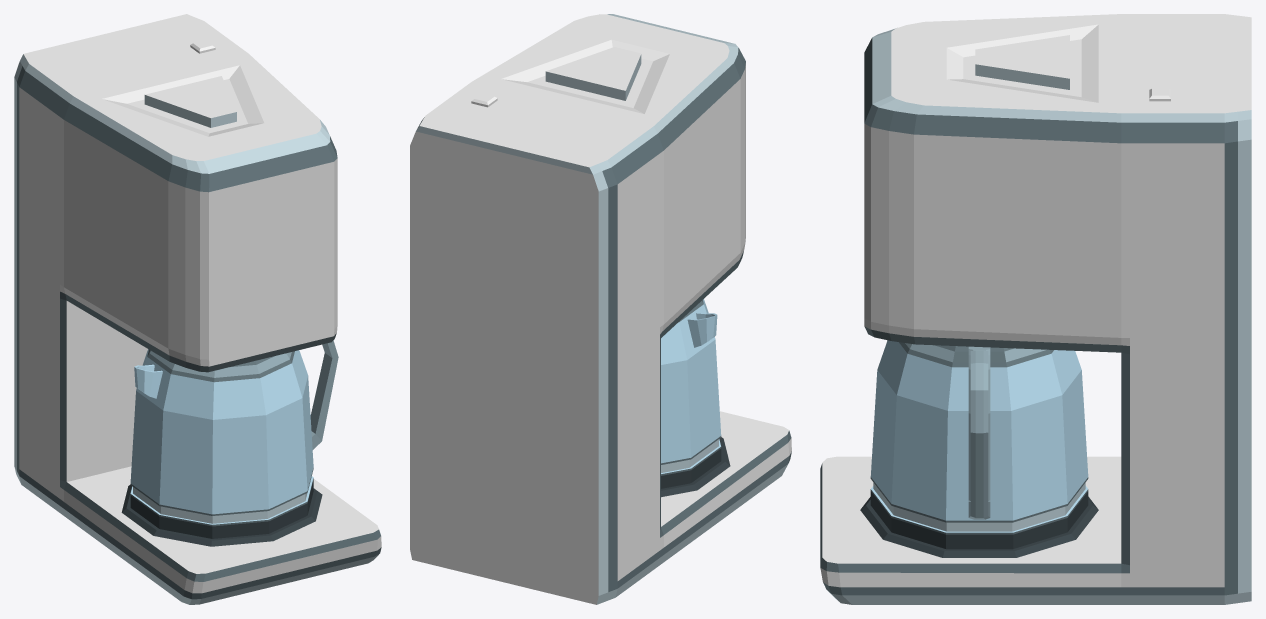
The model's file is KA_CoffeeMaker_V1.glb.
3 views of the same model, side by side, from view 1: azimuth 30°, elevation 25°; view 2: azimuth 150°, elevation 25°; view 3: azimuth 270°, elevation 25° (orthographic). The views are drawn at different scales.
Parts seen in each view (by area): view 1: KA_CoffeeMaker_V1, KA_CoffeeMaker_V1_Pot; view 2: KA_CoffeeMaker_V1, KA_CoffeeMaker_V1_Pot; view 3: KA_CoffeeMaker_V1, KA_CoffeeMaker_V1_Pot.
Part boxes in pixels (x1,y1,x2,y2): KA_CoffeeMaker_V1: [14, 14, 381, 604]; KA_CoffeeMaker_V1_Pot: [130, 340, 338, 538]; KA_CoffeeMaker_V1: [410, 14, 791, 604]; KA_CoffeeMaker_V1_Pot: [661, 299, 721, 488]; KA_CoffeeMaker_V1: [820, 14, 1251, 604]; KA_CoffeeMaker_V1_Pot: [870, 340, 1088, 549].
Size of the model in its own units: 0.1757 by 0.3383 by 0.2676.
2 materials, 2 textured.
